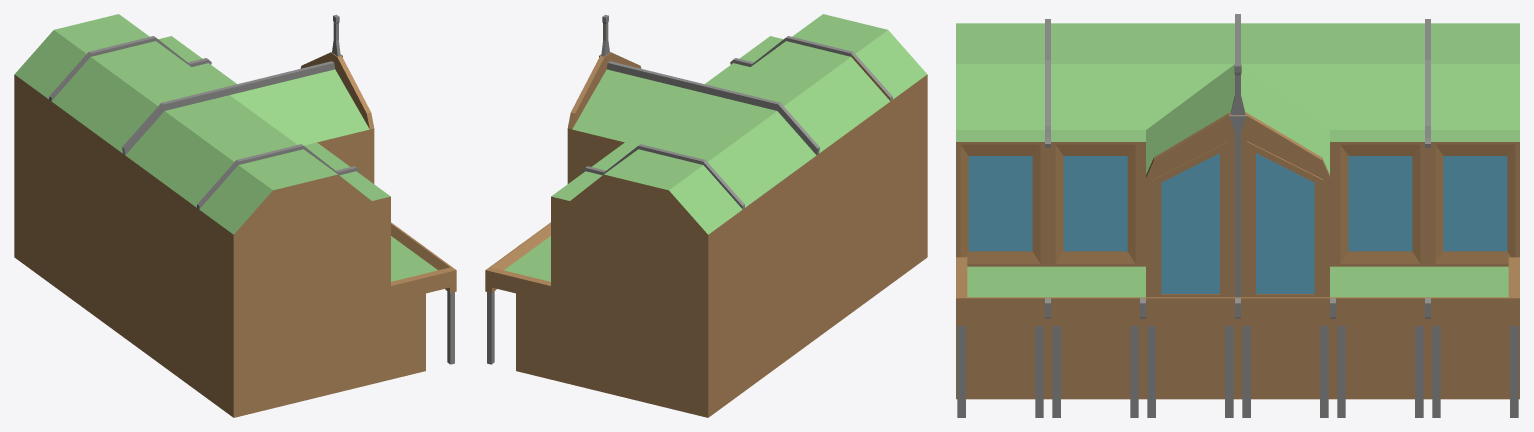
File: Concept Model Hall.fbx
The picture shows the model from 3 angles, left to right: view 1: azimuth 30°, elevation 25°; view 2: azimuth 150°, elevation 25°; view 3: azimuth 270°, elevation 25°; orthographic projection. The views are drawn at different scales.
Parts seen in each view (by area): view 1: Cube; view 2: Cube; view 3: Cube.
Boxes of the visible parts, x1,y1,x2,y2 form: Cube: [14, 14, 456, 417]; Cube: [485, 14, 927, 417]; Cube: [956, 14, 1519, 417].
Bounding box in the file's own units: 1061 × 1209 × 1781.
